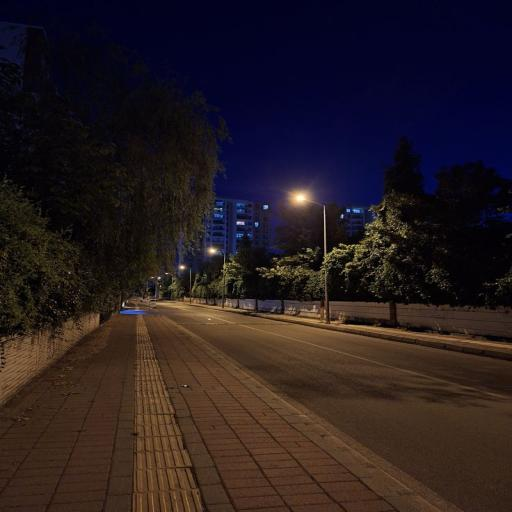construction_fence: (156, 307, 455, 512)
entrance: (280, 191, 337, 325)
ramp: (142, 298, 512, 511)
shelf: (0, 300, 464, 512)
